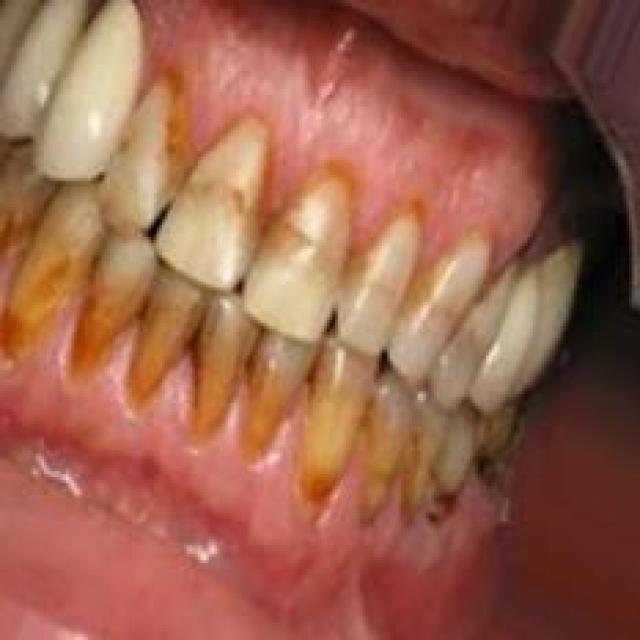caries: (426, 466, 471, 533)
